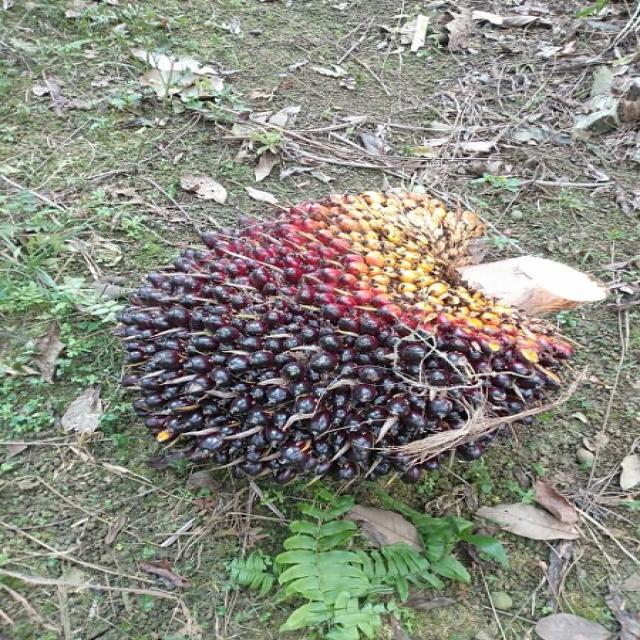fraksi 00: (112, 187, 564, 485)
